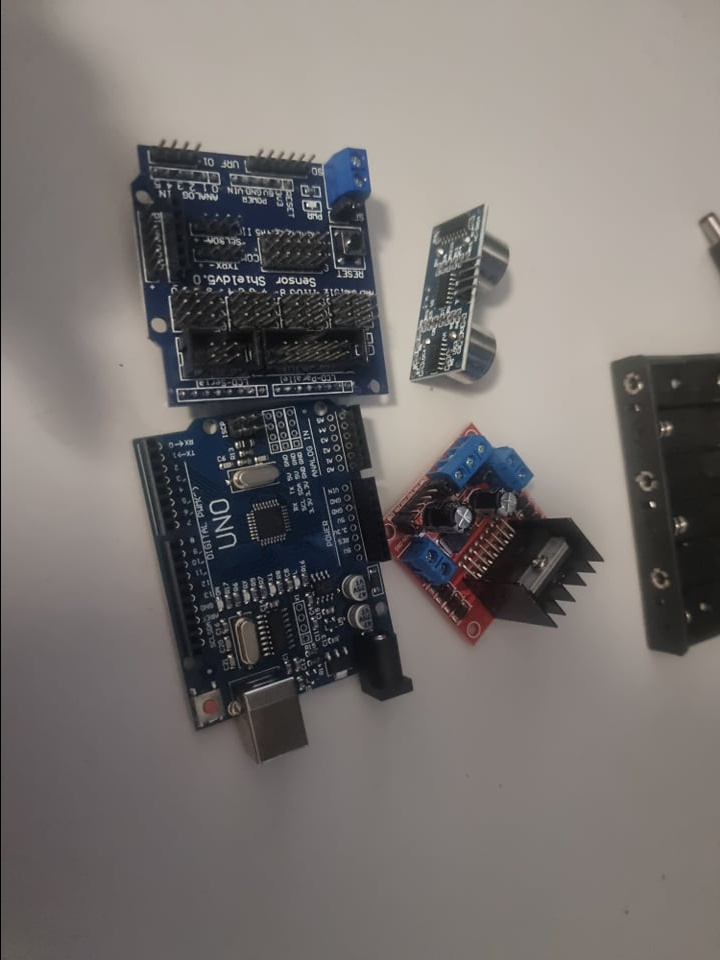5V EXPANSION: (123, 140, 388, 399)
BATTERY BOX: (610, 325, 719, 665)
MOTOR: (385, 419, 603, 648)
SENSOR: (405, 201, 509, 385)
UNO R3: (124, 402, 417, 769)
